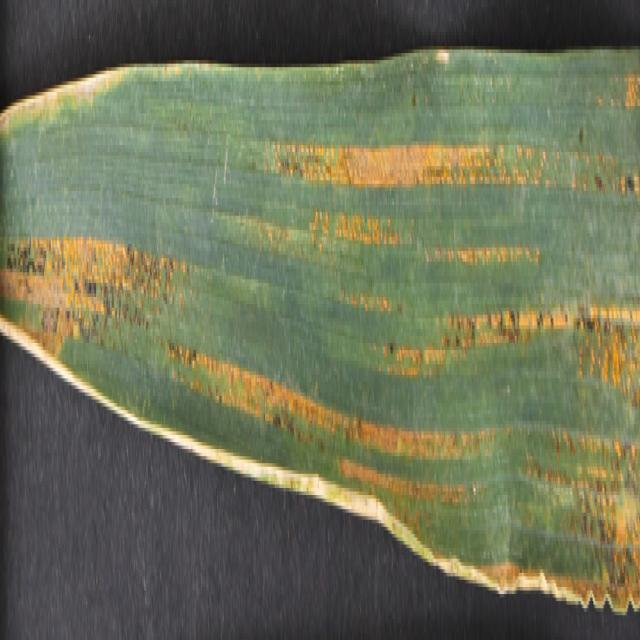leaf rust: (1, 70, 638, 604)
